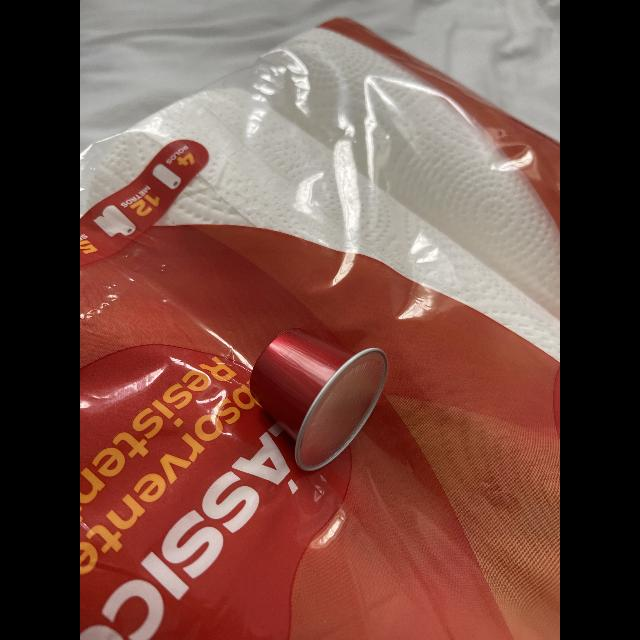intact_capsule: (232, 322, 408, 480)
